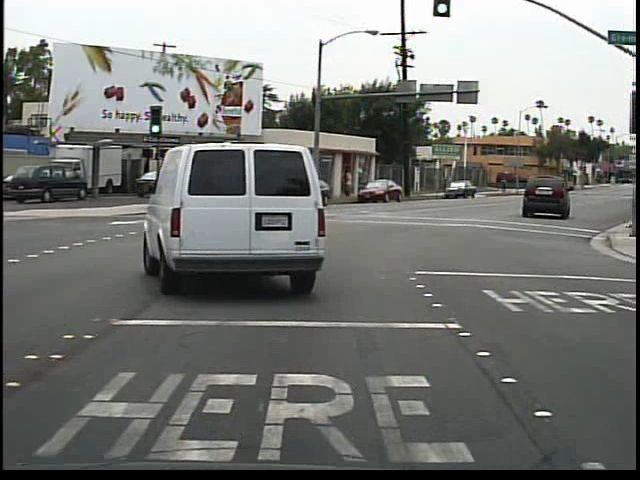person: (340, 161, 355, 199), (498, 174, 509, 194)
